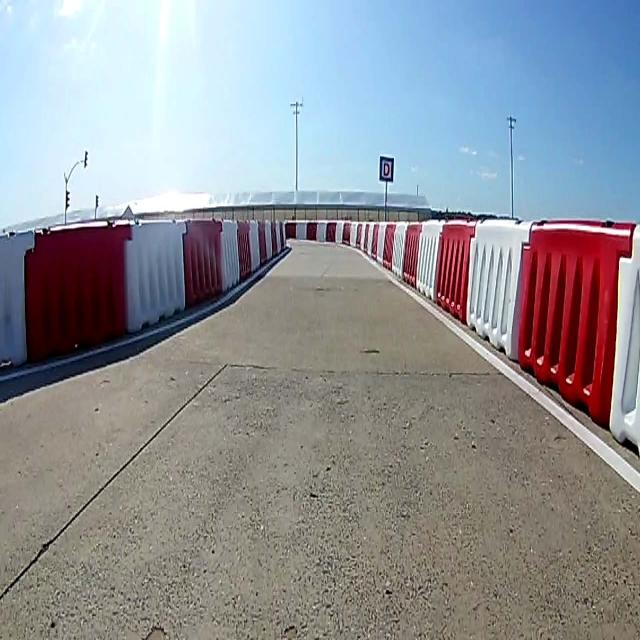durak: (380, 154, 394, 184)
